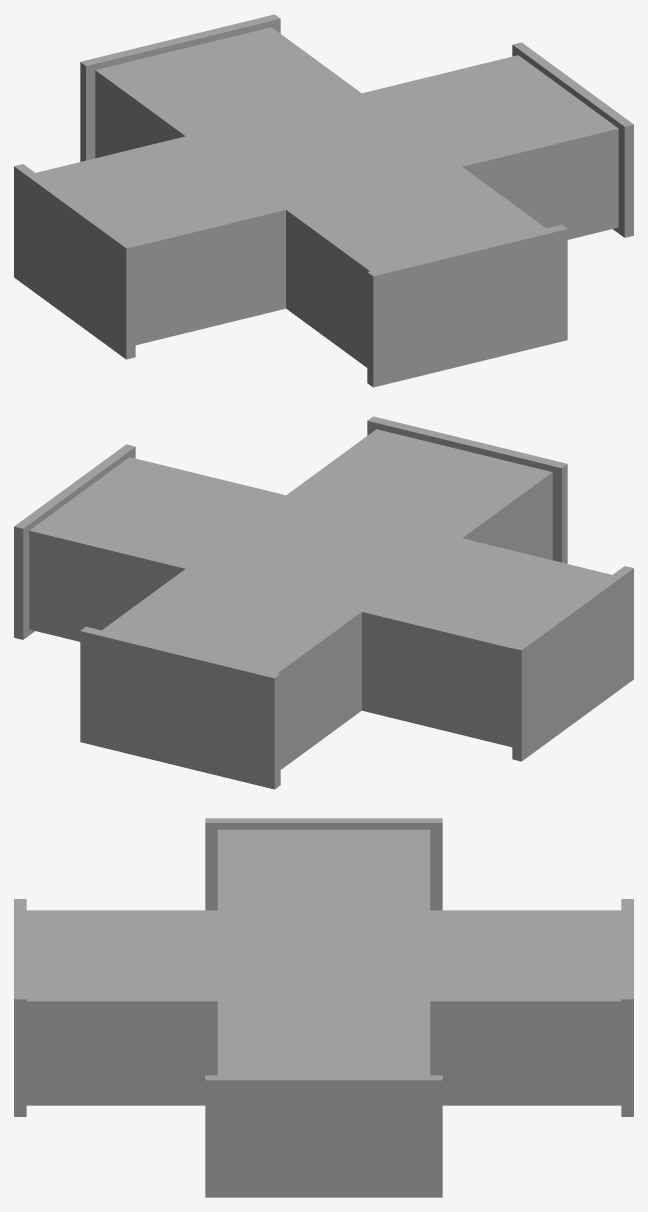
File: Prop_ACVent_Cross.fbx
The picture shows the model from 3 angles, top to bottom: view 1: azimuth 30°, elevation 25°; view 2: azimuth 150°, elevation 25°; view 3: azimuth 270°, elevation 25°; orthographic projection. The views are drawn at different scales.
Parts seen in each view (by area): view 1: Prop_ACVent_Cross; view 2: Prop_ACVent_Cross; view 3: Prop_ACVent_Cross.
Boxes of the visible parts, box(x1,y1,x2,y2) form: Prop_ACVent_Cross: box(14, 14, 633, 387); Prop_ACVent_Cross: box(14, 416, 633, 789); Prop_ACVent_Cross: box(14, 818, 633, 1197).
Size of the model in its own units: 208 by 43.45 by 208.
